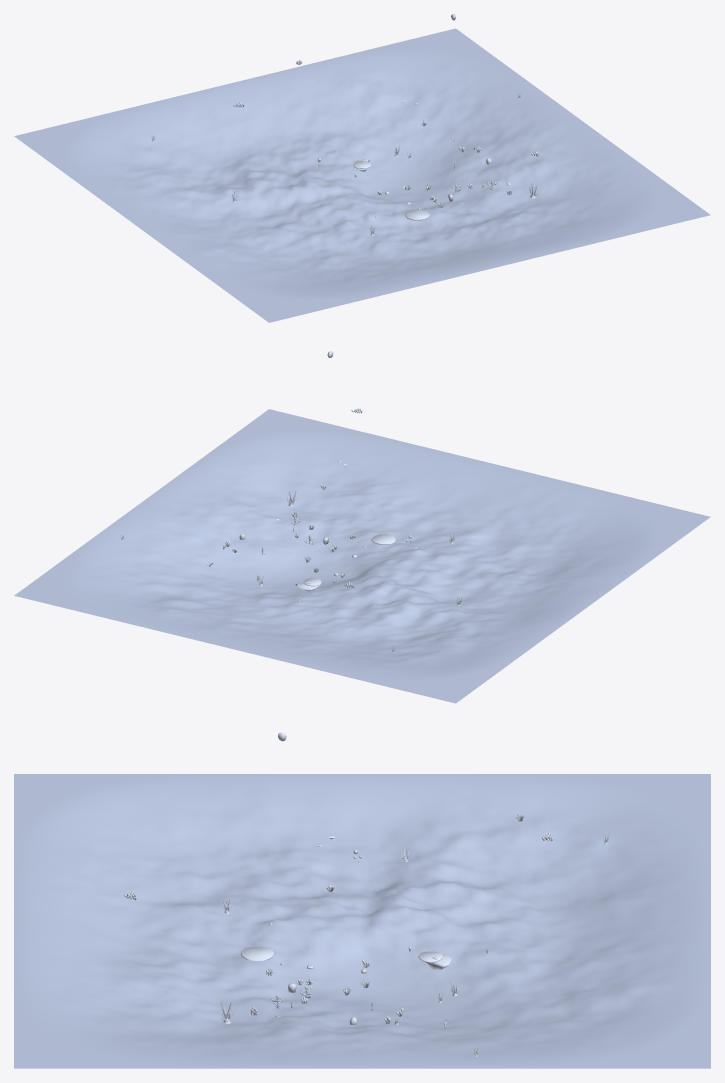
The model's file is coralScene.glb.
The picture shows the model from 3 angles, top to bottom: view 1: azimuth 30°, elevation 25°; view 2: azimuth 150°, elevation 25°; view 3: azimuth 270°, elevation 25°; orthographic projection. The views are drawn at different scales.
Visible parts, largest first — view 1: Landscape.008; view 2: Landscape.008; view 3: Landscape.008.
Boxes of the visible parts, x1,y1,x2,y2 form: Landscape.008: (14, 28, 710, 322); Landscape.008: (14, 409, 710, 703); Landscape.008: (14, 774, 710, 1068).
Size of the model in its own units: 40.02 by 16.9 by 40.02.
